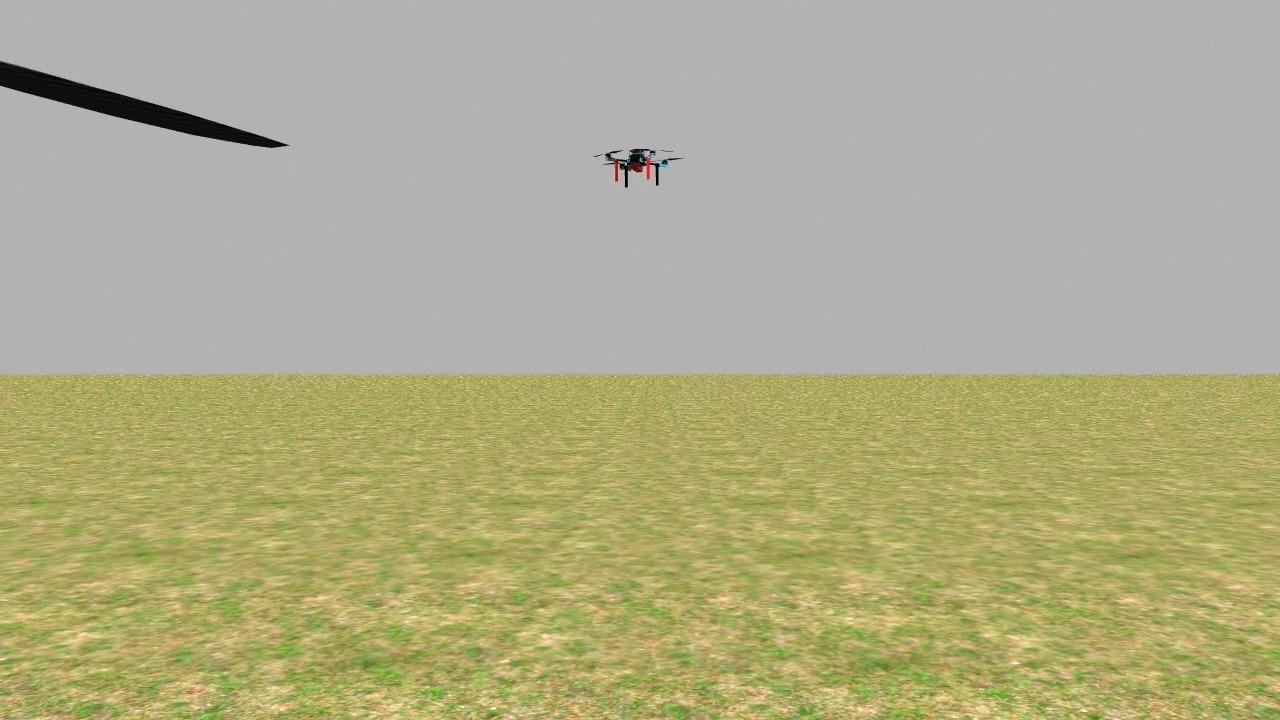UAV: (593, 136, 677, 188)
